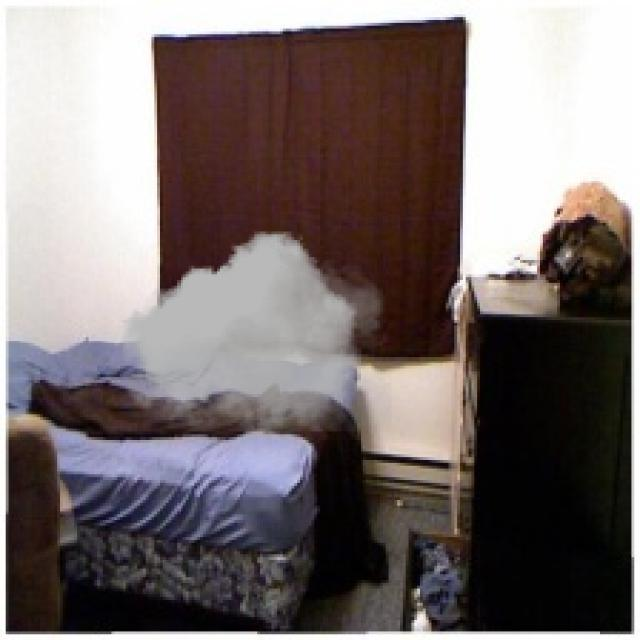smoke: (117, 232, 392, 432)
